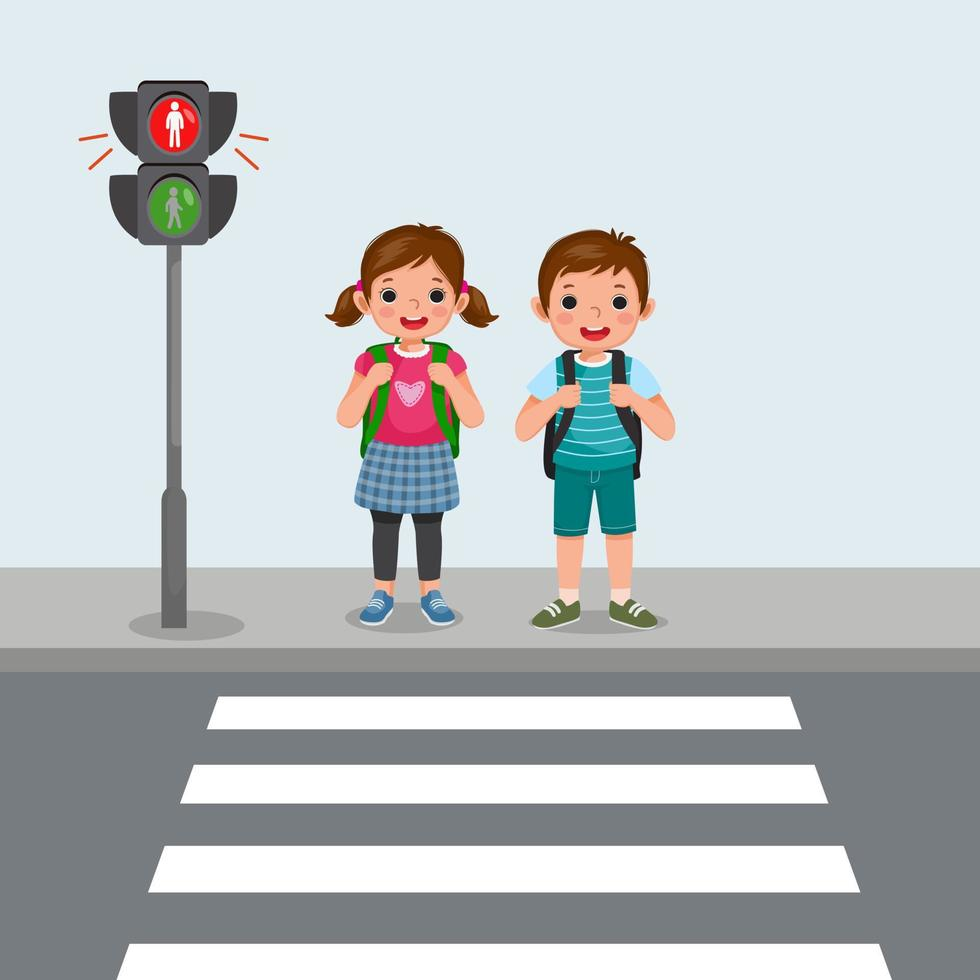Crosswalk: (150, 680, 898, 980)
